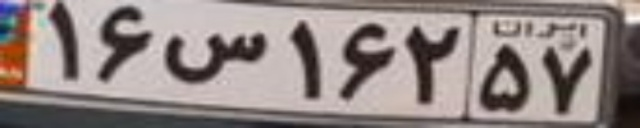1: (287, 18, 320, 100), (43, 0, 76, 81)
2: (399, 22, 463, 103)
5: (474, 43, 531, 110)
6: (95, 4, 152, 81), (341, 21, 393, 100)
7: (540, 44, 598, 114)
sin: (162, 31, 264, 85)
